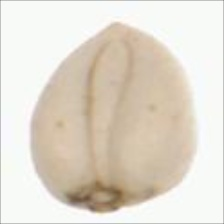L5: (81, 39, 143, 180), (62, 174, 156, 214), (91, 17, 145, 41)
L6: (24, 19, 201, 215)
